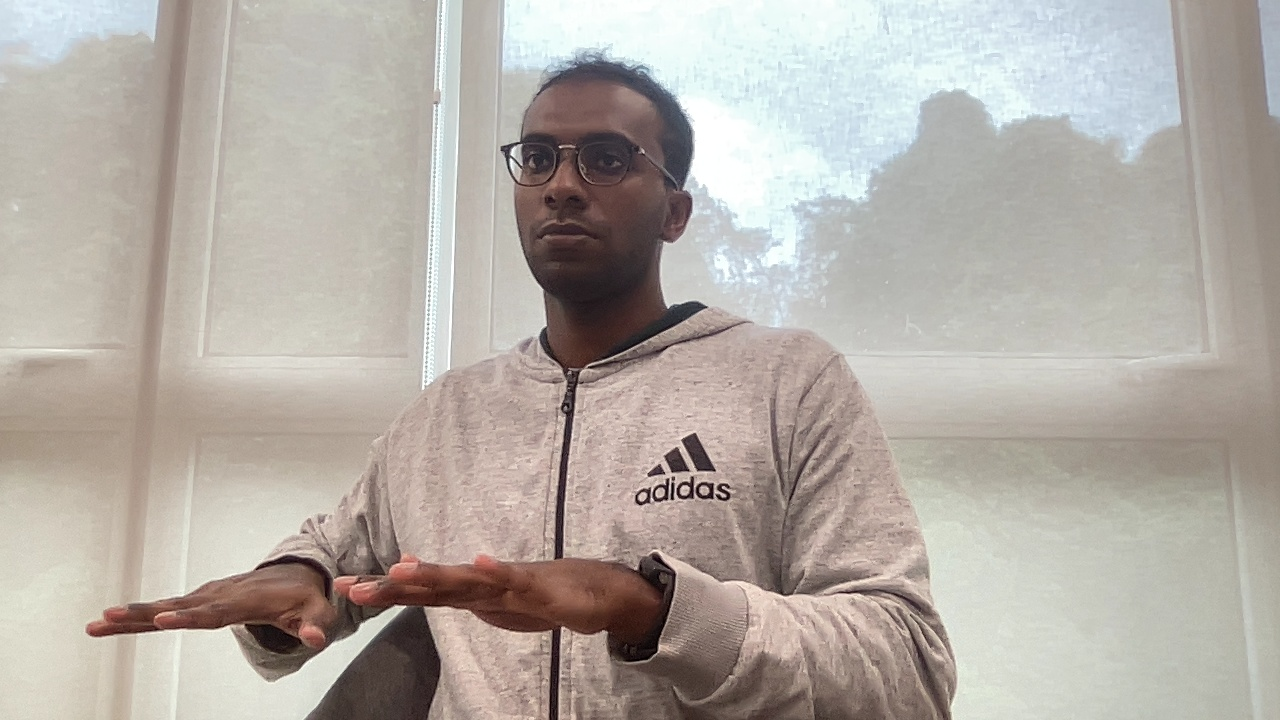finish: (80, 543, 639, 656)
